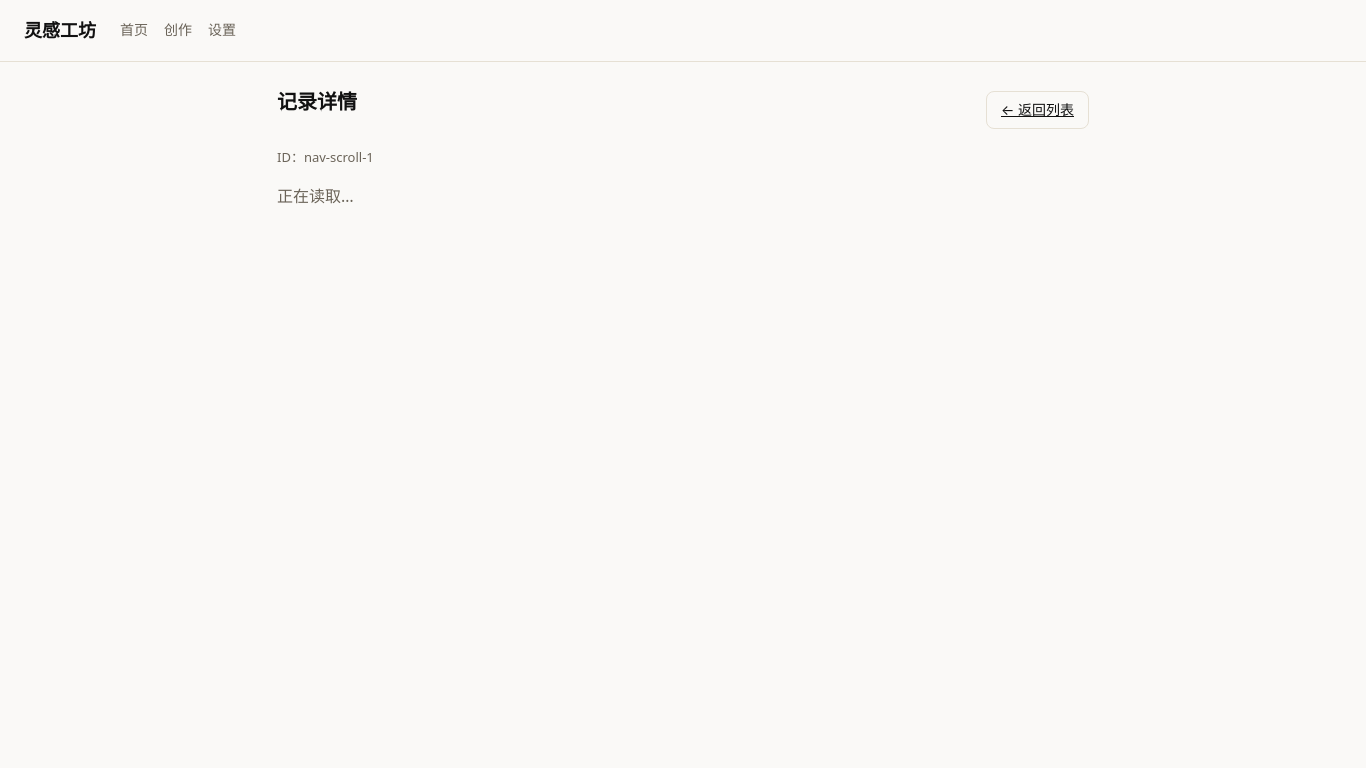
Test: 点「首页」回到列表顶部（P1.5 §3） › ② 从详情页点「首页」→ 回到 #/ 且滚顶
Click the link "首页" at (134, 30), box top-left (120, 19), bottom-right (148, 42)
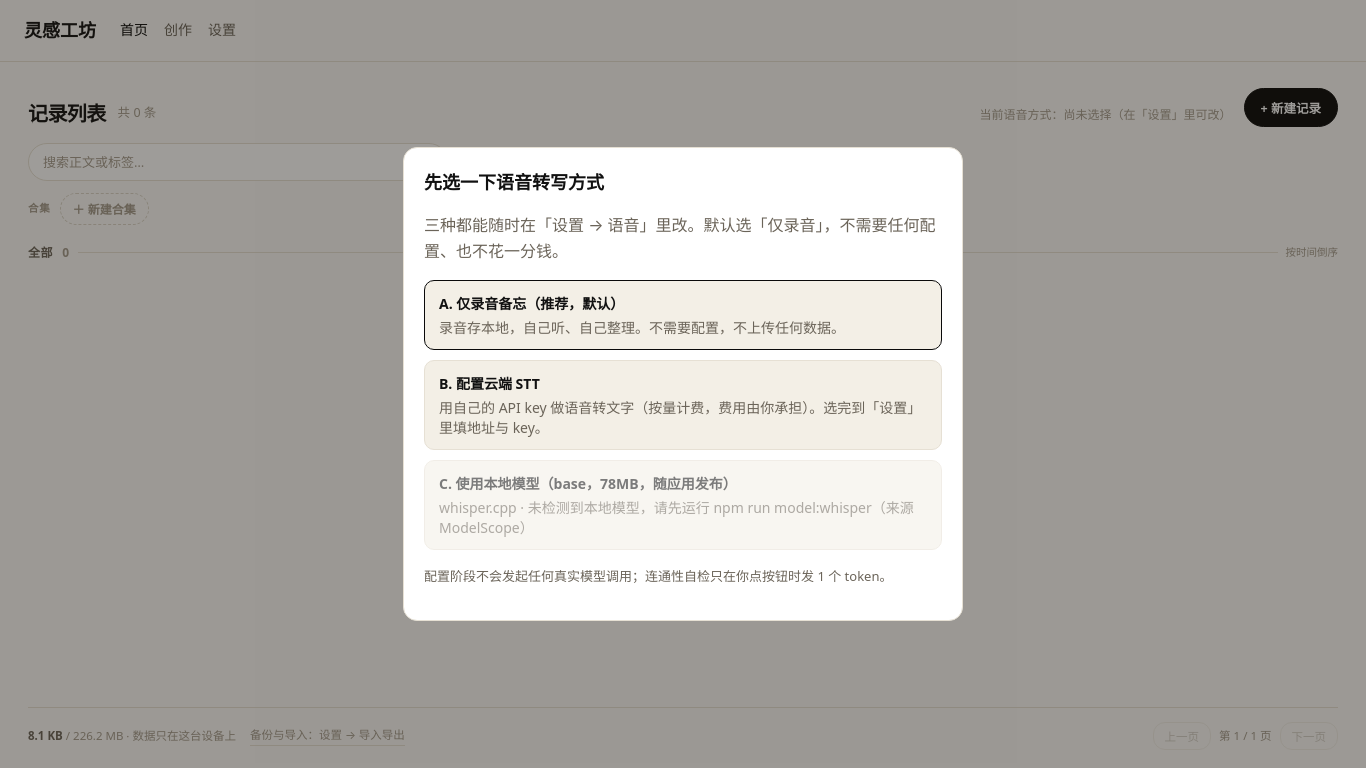
Expected: the text "记录列表" is shown, top-left (28, 101), bottom-right (106, 127)
